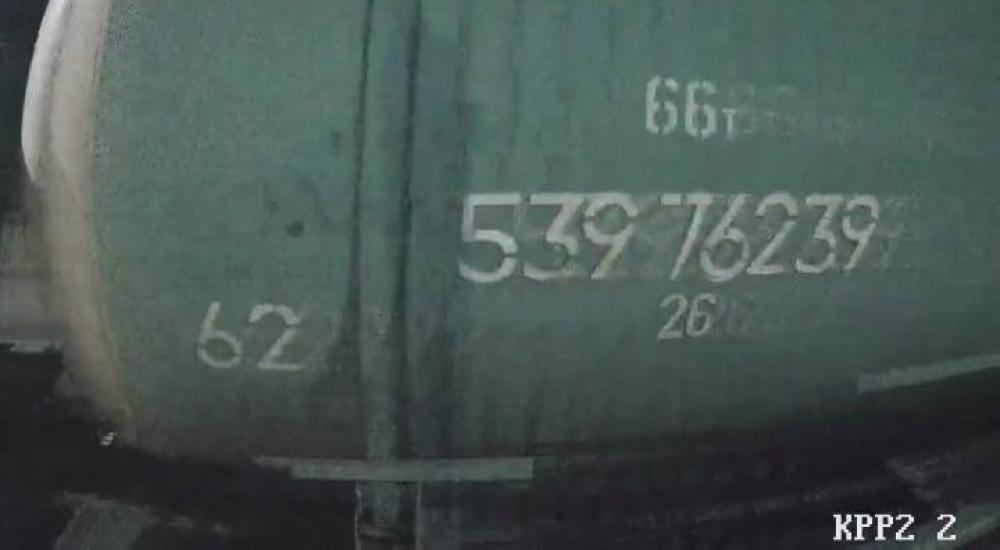Wagon-number: (452, 186, 883, 288)
